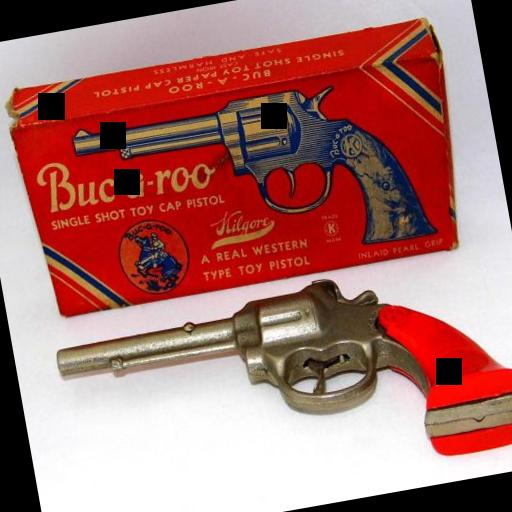Handgun: (47, 241, 512, 512)
